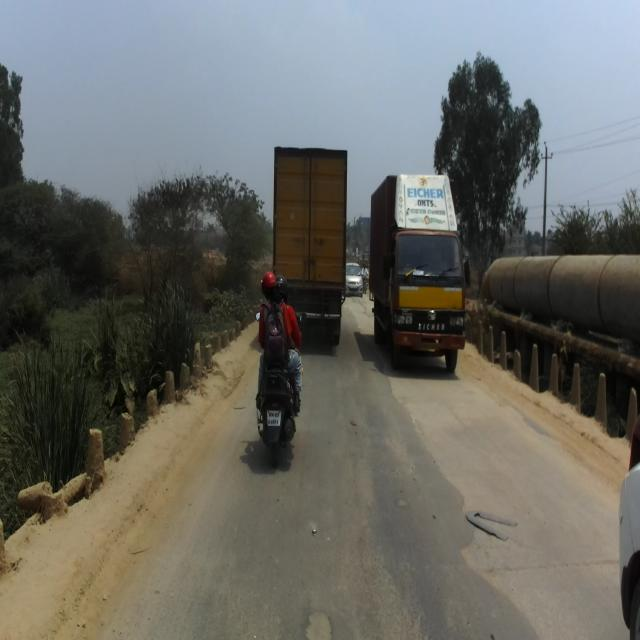motorcycle ahead at: (256, 354, 304, 465)
truck ahead at: (372, 170, 470, 377), (275, 143, 347, 344)
